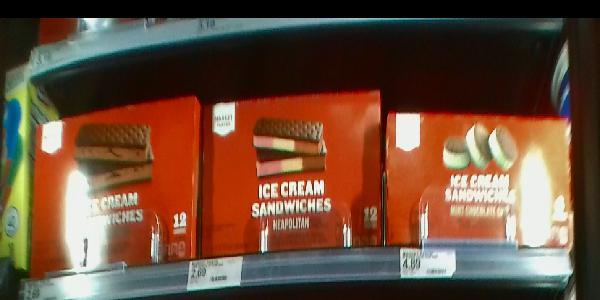icecream: (27, 87, 198, 275), (203, 93, 383, 254), (385, 113, 574, 253)
